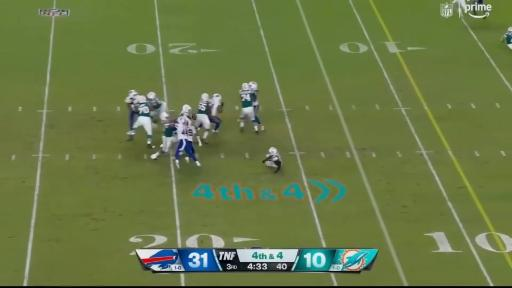Helmet: (177, 116, 189, 125), (182, 105, 191, 115), (147, 92, 157, 101), (160, 113, 169, 121), (248, 83, 257, 90), (137, 96, 147, 102), (249, 82, 257, 89), (201, 94, 209, 101), (269, 147, 277, 154), (177, 117, 185, 124), (129, 90, 138, 96), (242, 83, 248, 90), (507, 27, 512, 34), (129, 90, 137, 94), (213, 94, 221, 98), (250, 82, 257, 85)
Jersey: (176, 116, 194, 141), (176, 124, 193, 141), (210, 97, 223, 116), (240, 90, 253, 108), (163, 122, 177, 138), (136, 103, 150, 117), (125, 95, 137, 111), (198, 102, 210, 115), (267, 154, 282, 162), (251, 89, 258, 105), (151, 100, 162, 110), (504, 33, 511, 44)
Player: (129, 96, 154, 148), (175, 116, 200, 168), (151, 113, 177, 159), (239, 83, 258, 133), (195, 94, 210, 142), (249, 82, 264, 130), (147, 92, 167, 123), (125, 90, 138, 135), (210, 94, 223, 132), (263, 147, 282, 172), (452, 0, 466, 17), (502, 27, 511, 49), (472, 0, 483, 15), (180, 105, 191, 117)
